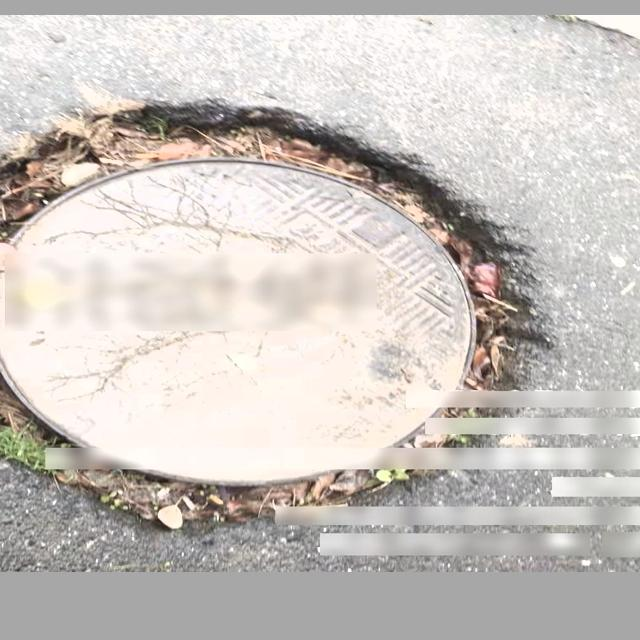circle: (0, 105, 556, 524)
